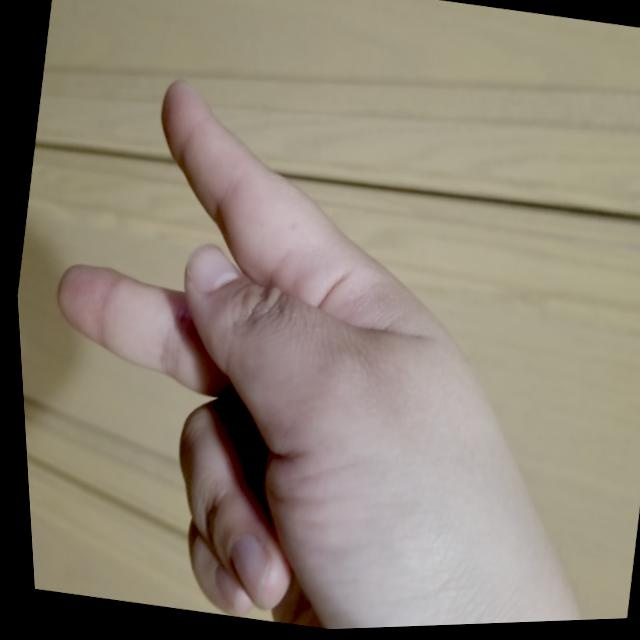P: (3, 42, 611, 639)
